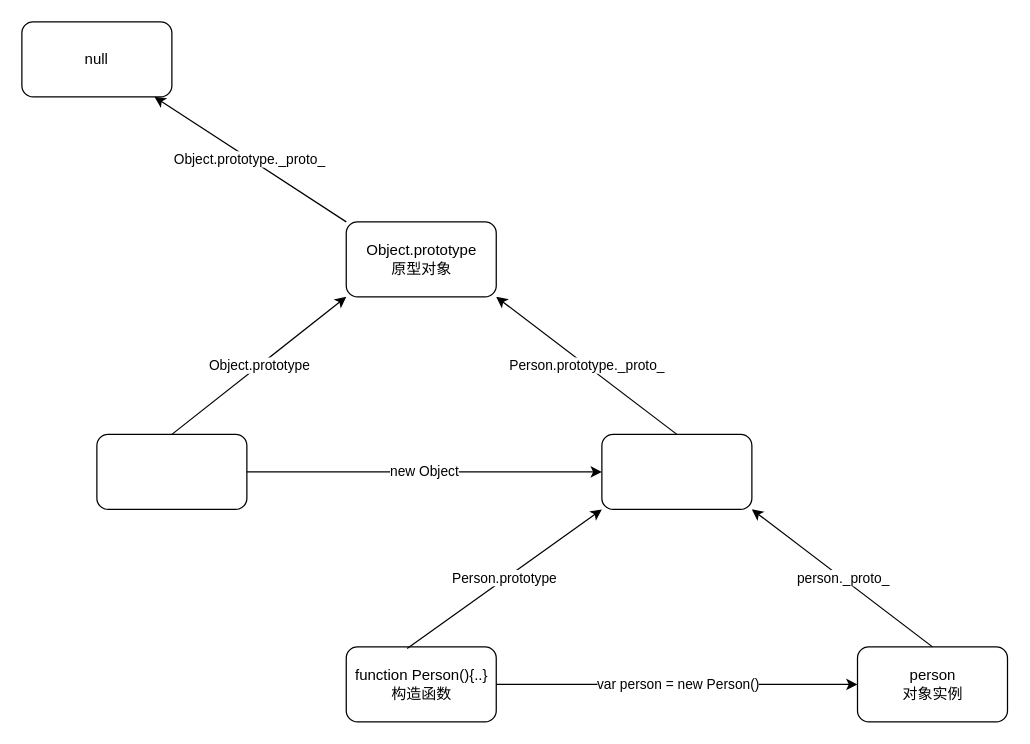
Some shapes in this 1030 by 744 pixel diagram are drawn without their labels. Each missing label, with the centre of its shape:
function Object(){..} 构造函数: the point at 171,471
Person.prototype 原型对象: the point at 676,471
